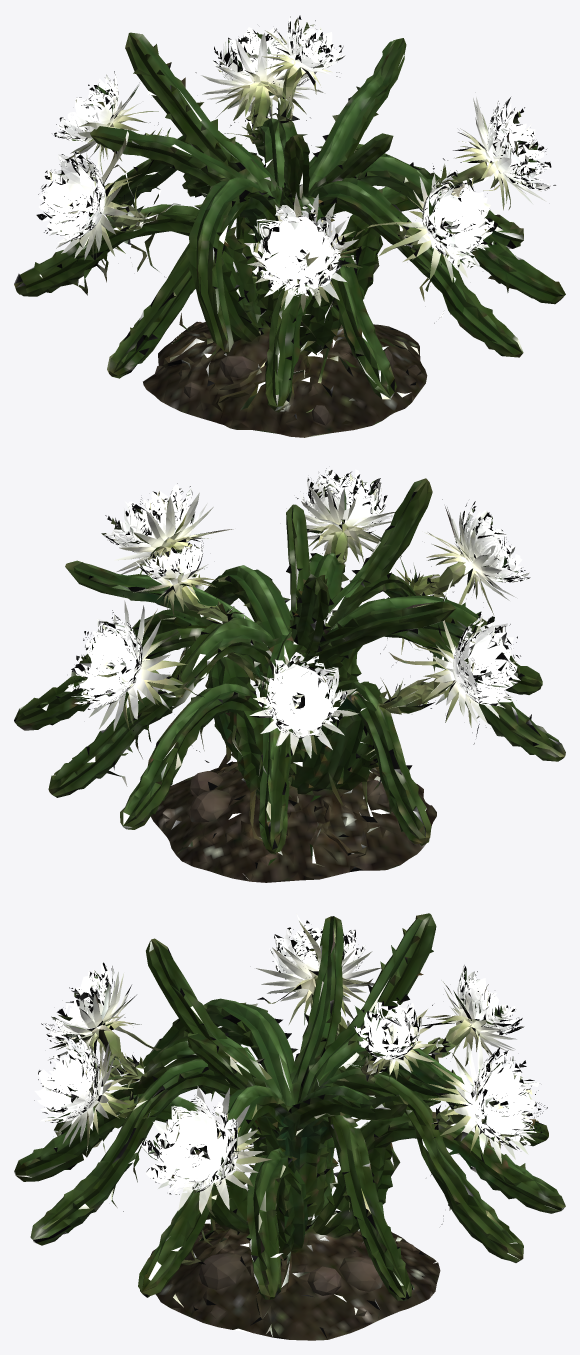
The model's file is Moonlit_Cactus_Bloom.fbx.
3 views of the same model, one above another, from view 1: azimuth 30°, elevation 25°; view 2: azimuth 150°, elevation 25°; view 3: azimuth 270°, elevation 25° (orthographic).
Parts seen in each view (by area): view 1: Moonlit_Cactus_Bloom_LOD0; view 2: Moonlit_Cactus_Bloom_LOD0; view 3: Moonlit_Cactus_Bloom_LOD0.
Part boxes in pixels (x1=…): Moonlit_Cactus_Bloom_LOD0: x1=14, y1=15, x2=565, y2=437; Moonlit_Cactus_Bloom_LOD0: x1=14, y1=468, x2=565, y2=882; Moonlit_Cactus_Bloom_LOD0: x1=14, y1=913, x2=565, y2=1340.
Size of what is drawn, in the model's own units: 1.82 by 1.21 by 1.9.
1 material, 1 textured.
